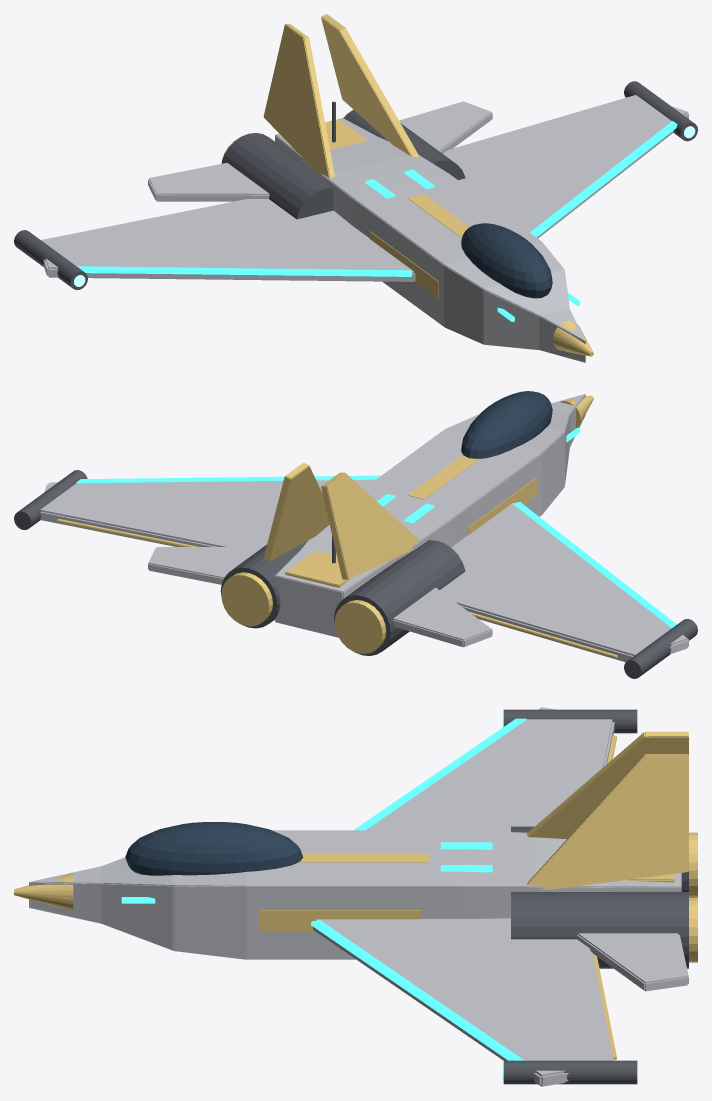
File: player_fighter.glb
3 renders of one model, top to bottom at view 1: azimuth 30°, elevation 25°; view 2: azimuth 150°, elevation 25°; view 3: azimuth 270°, elevation 25°, orthographic. The views are drawn at different scales.
Parts seen in each view (by area): view 1: Hull, WingR, WingL, FinL, NacelleR, Canopy, FinR, StabR, StabL, WingGlowR, WingGlowL, TipPodR (+6 smaller); view 2: Hull, WingR, WingL, FinL, NacelleR, Canopy, FinR, StabR, StabL, NozzleRingL, NozzleRingR, NacelleL (+9 smaller); view 3: Hull, WingL, WingR, FinR, NacelleL, Canopy, StabL, FinL, TipPodL, WingGlowL, SidePanelL, TipPodR (+5 smaller).
Part boxes in pixels (x1,y1,x2,y2): Hull: (275, 118, 585, 362); WingR: (41, 199, 415, 281); WingL: (443, 95, 688, 238); FinL: (263, 24, 334, 177); NacelleR: (221, 133, 333, 219); Canopy: (461, 223, 552, 298); FinR: (321, 14, 418, 157); StabR: (148, 163, 269, 201); StabL: (399, 101, 492, 153); WingGlowR: (77, 266, 411, 276); WingGlowL: (530, 121, 677, 237); TipPodR: (14, 230, 87, 289); Hull: (275, 394, 585, 637); WingR: (440, 502, 688, 662); WingL: (40, 479, 375, 546); FinL: (321, 472, 418, 579); NacelleR: (334, 540, 465, 655); Canopy: (461, 391, 552, 458); FinR: (263, 462, 329, 561); StabR: (393, 587, 492, 647); StabL: (148, 547, 262, 584); NozzleRingL: (221, 572, 272, 626); NozzleRingR: (334, 600, 386, 654); NacelleL: (220, 540, 308, 628); Hull: (29, 830, 681, 959); WingL: (313, 918, 613, 1086); WingR: (366, 707, 614, 831); FinR: (526, 754, 688, 889); NacelleL: (511, 892, 688, 968); Canopy: (125, 822, 303, 875); StabL: (577, 933, 688, 991); FinL: (527, 731, 688, 839); TipPodL: (503, 1060, 637, 1084); WingGlowL: (311, 919, 524, 1060); SidePanelL: (258, 909, 421, 931); TipPodR: (503, 709, 637, 733).
Size of the model in its own units: 5.89 by 1.41 by 4.61.
